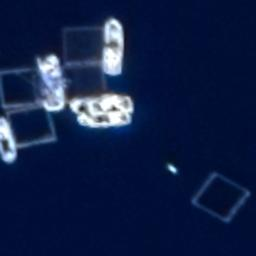square_solid: (185, 167, 254, 228), (4, 101, 61, 152), (58, 22, 110, 70), (60, 62, 111, 108), (1, 64, 47, 112)
